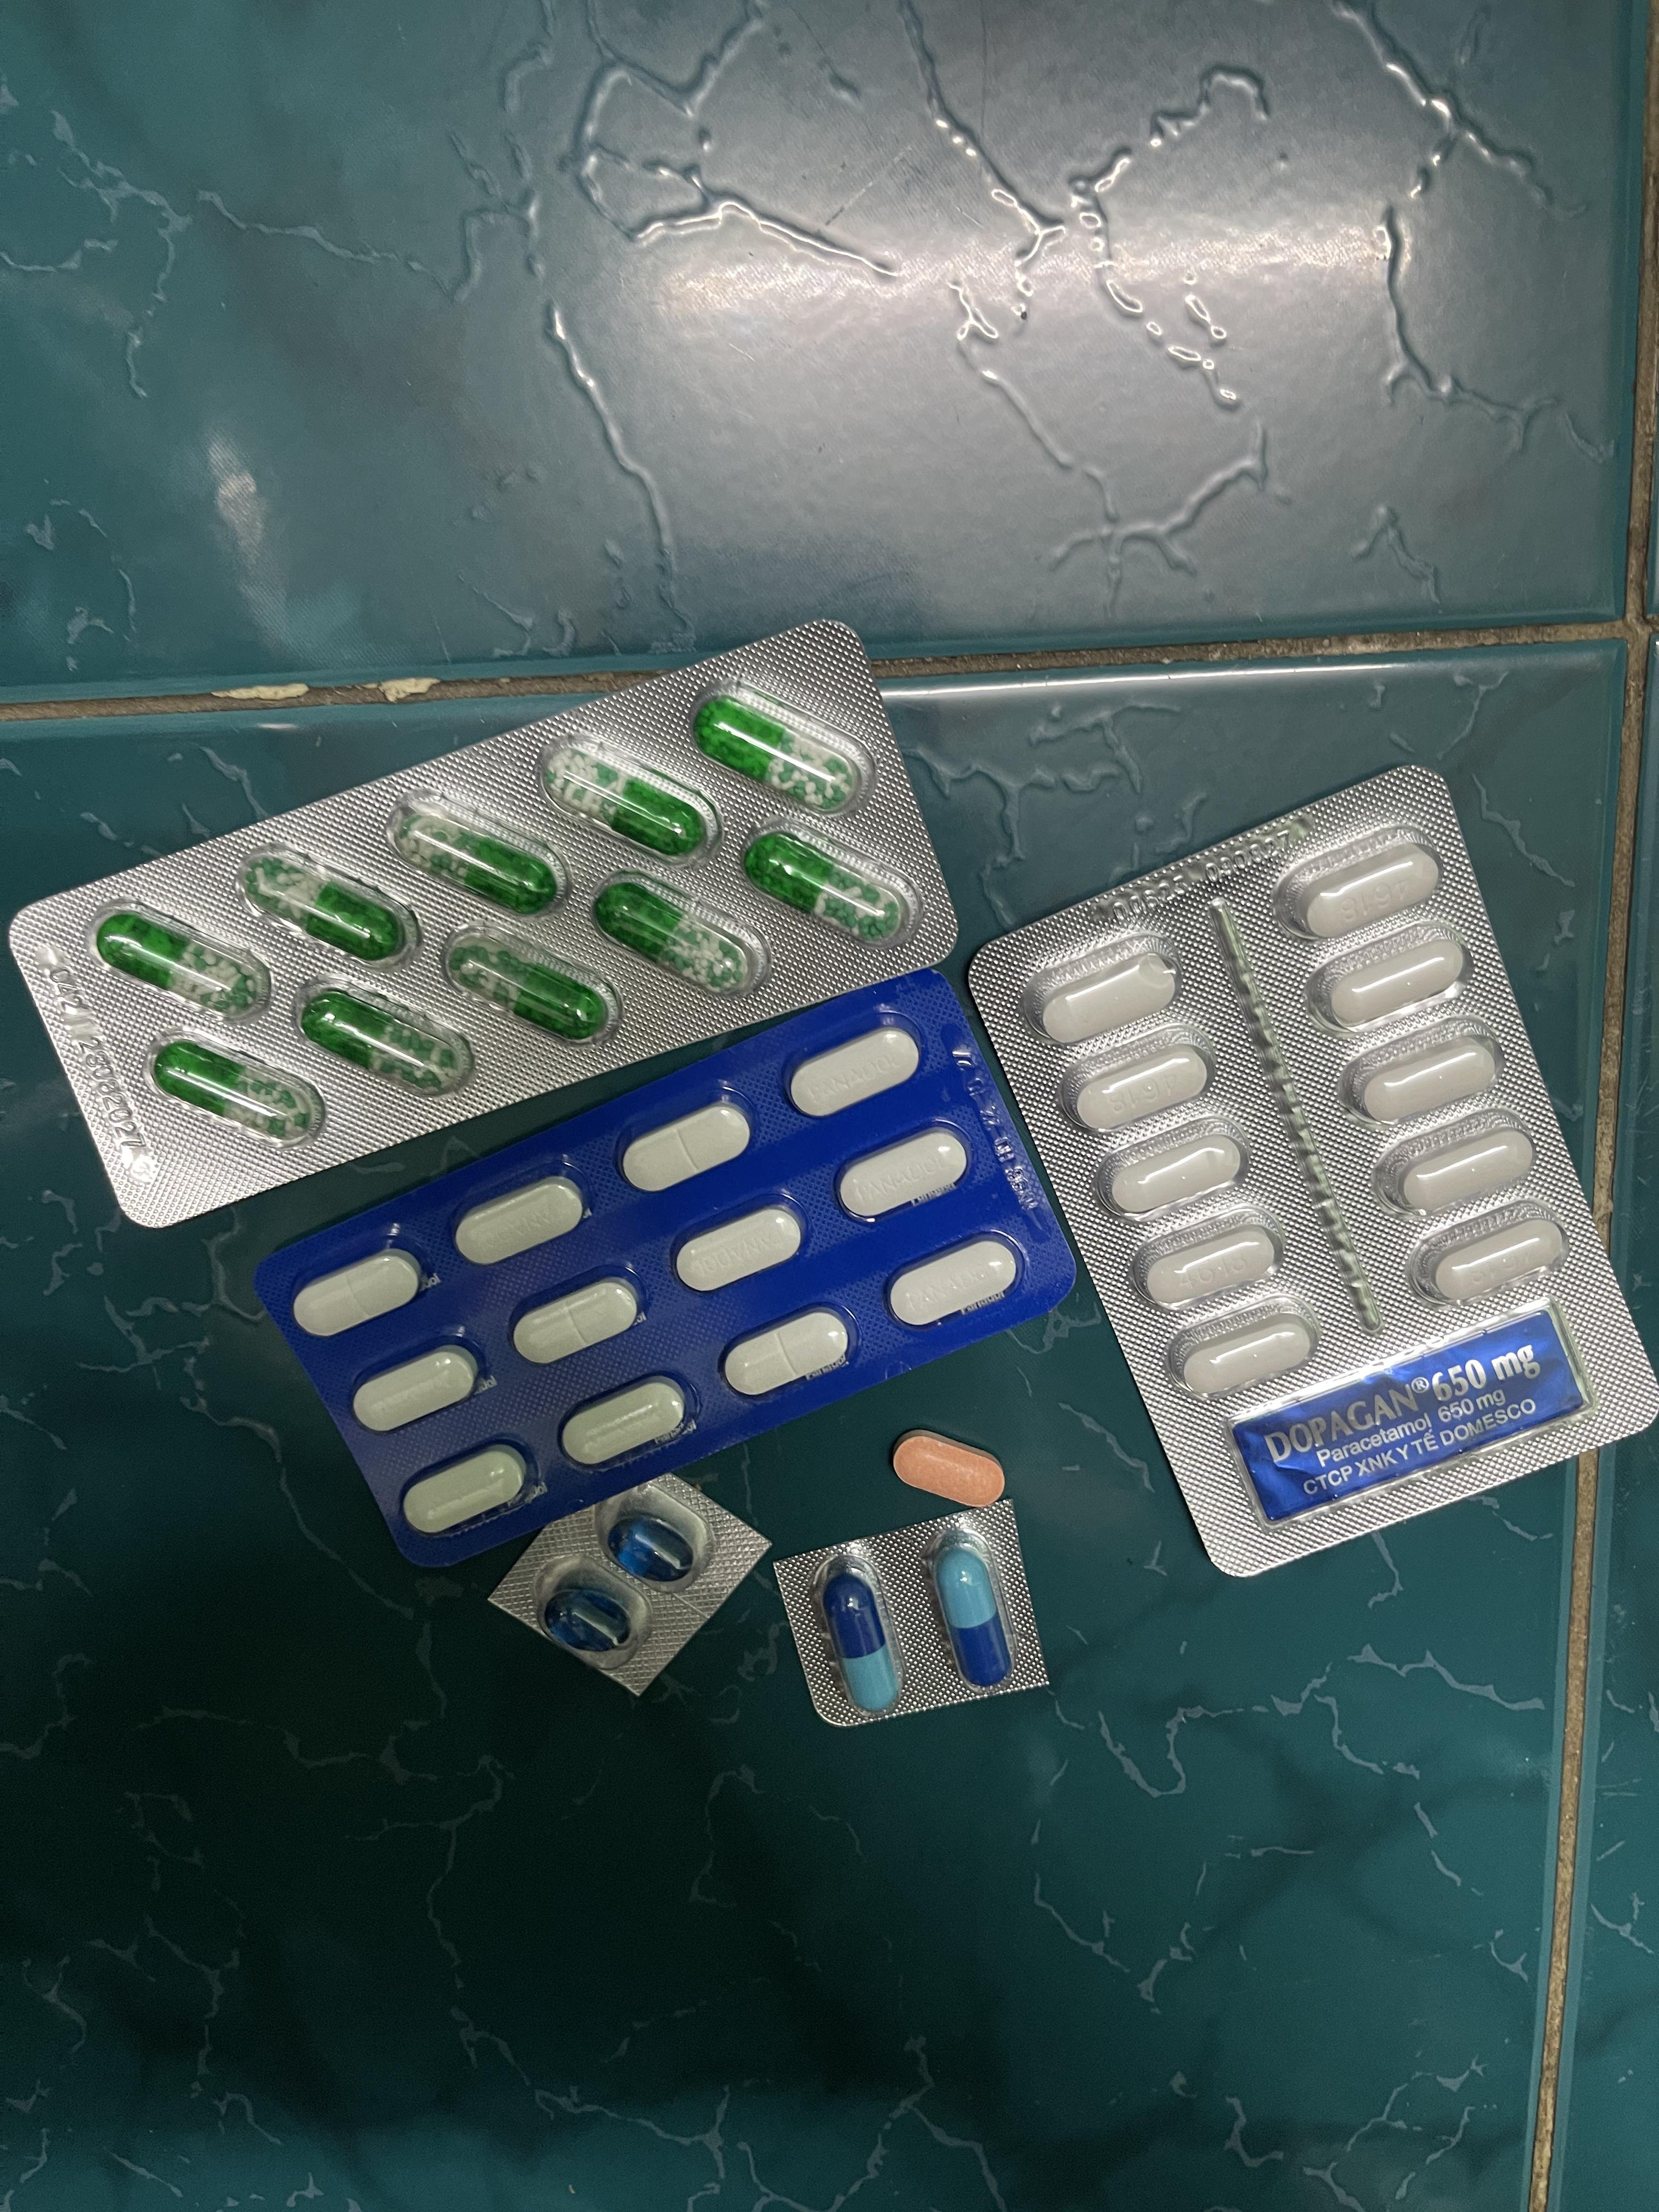Lincomyxin_500mg: (545, 1585, 636, 1653), (610, 1515, 695, 1581)
Loratadine_10mg: (889, 1430, 1007, 1508)
Paracetamol_350mg: (884, 1235, 1019, 1331), (838, 1125, 974, 1221), (788, 1024, 924, 1118), (620, 1097, 755, 1191), (673, 1202, 807, 1294), (350, 1343, 484, 1435), (289, 1247, 422, 1339), (511, 1273, 643, 1366), (455, 1177, 587, 1266), (401, 1444, 528, 1534), (723, 1308, 852, 1397), (559, 1378, 688, 1467)
Paracetamol_500mg: (1338, 1014, 1507, 1127), (1274, 822, 1438, 937), (1309, 921, 1471, 1036), (1373, 1101, 1539, 1212), (1127, 1193, 1284, 1310), (1405, 1198, 1567, 1310), (1026, 932, 1175, 1047), (1166, 1299, 1317, 1399), (1073, 1045, 1209, 1136), (1108, 1132, 1244, 1219)
Paracetamol_650mg: (295, 979, 472, 1096), (150, 1033, 326, 1148), (592, 874, 763, 993), (694, 697, 861, 812), (552, 751, 713, 853), (744, 831, 903, 934), (101, 911, 265, 1010), (254, 864, 411, 961), (444, 949, 606, 1042), (404, 819, 561, 913)
pill: (819, 1548, 908, 1714), (939, 1541, 1012, 1689)
